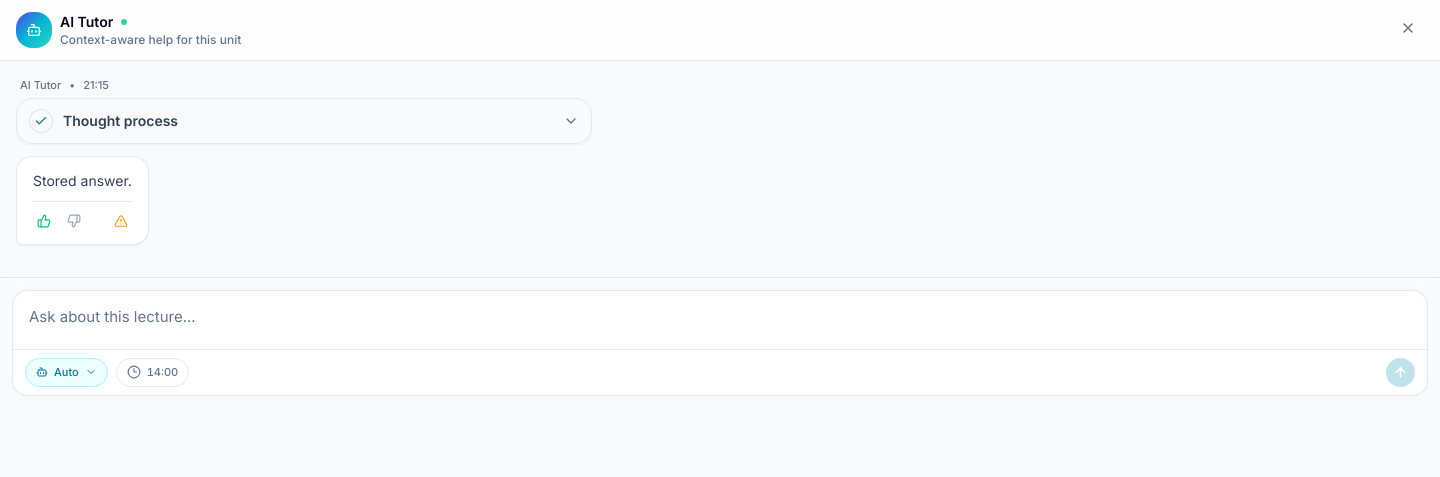
Test: InContextTutor › keeps tutor progress available after completion and restores it from session storage
Expected: the text "Stored answer." is shown, [33,168,132,192]
Click the button "Thought process".
click(121, 120)  # box [29,108,579,132]
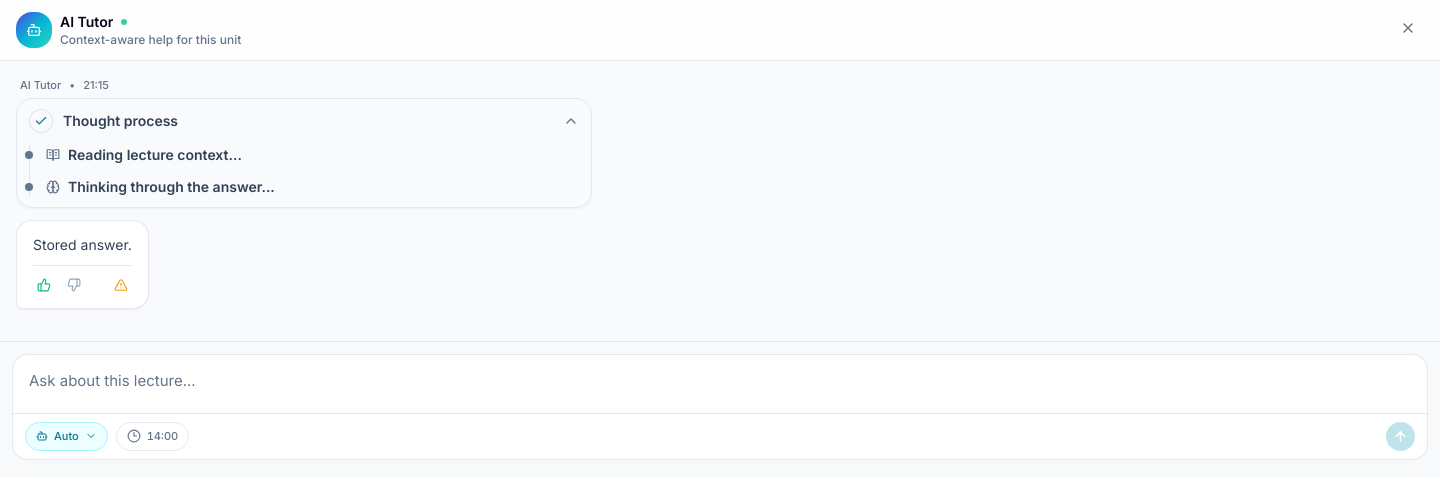
Result: the text "Reading lecture context..." is shown at [46,146,242,162]
